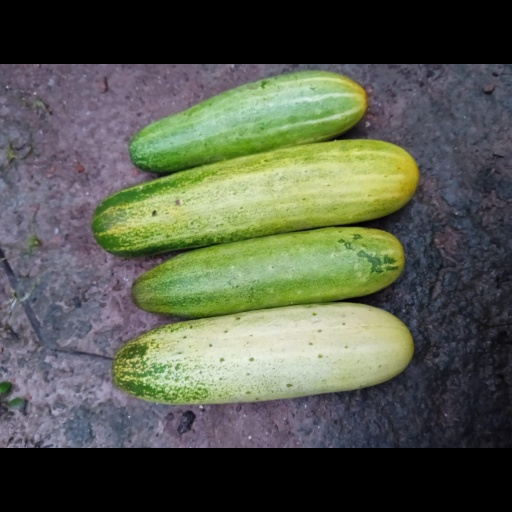concombre: (93, 139, 420, 258), (111, 301, 414, 405), (132, 226, 405, 318), (129, 70, 368, 172)
